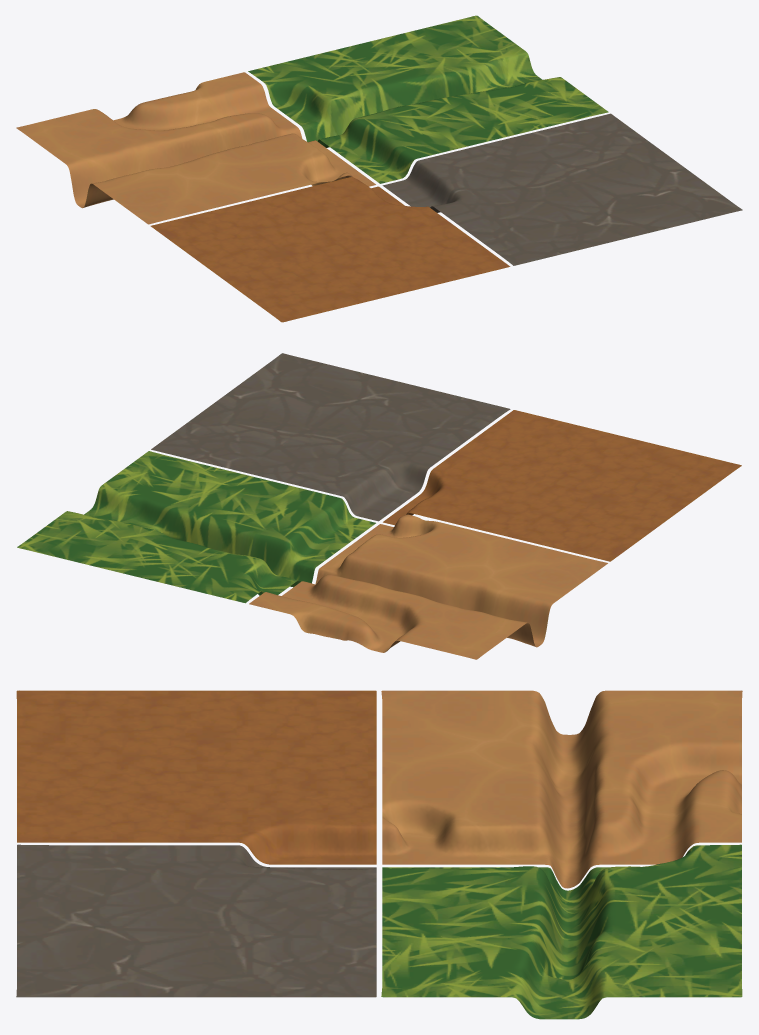
File: TutorialLevel_Terrain_CanyonPart.fbx
The picture shows the model from 3 angles, top to bottom: view 1: azimuth 30°, elevation 25°; view 2: azimuth 150°, elevation 25°; view 3: azimuth 270°, elevation 25°; orthographic projection. The views are drawn at different scales.
Parts seen in each view (by area): view 1: TutorialLevel_Terrain_CanyonPart; view 2: TutorialLevel_Terrain_CanyonPart; view 3: TutorialLevel_Terrain_CanyonPart.
Part boxes in pixels (x1,y1,x2,y2): TutorialLevel_Terrain_CanyonPart: (16, 15, 742, 322); TutorialLevel_Terrain_CanyonPart: (17, 353, 741, 659); TutorialLevel_Terrain_CanyonPart: (16, 690, 742, 1019).
Bounding box in the file's own units: 150 × 10.9 × 150.
1 material, 1 textured.
